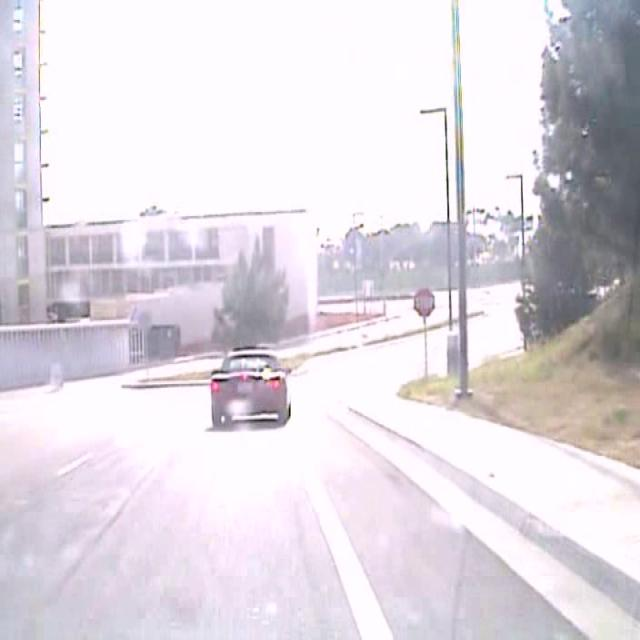stop: (413, 287, 435, 317)
